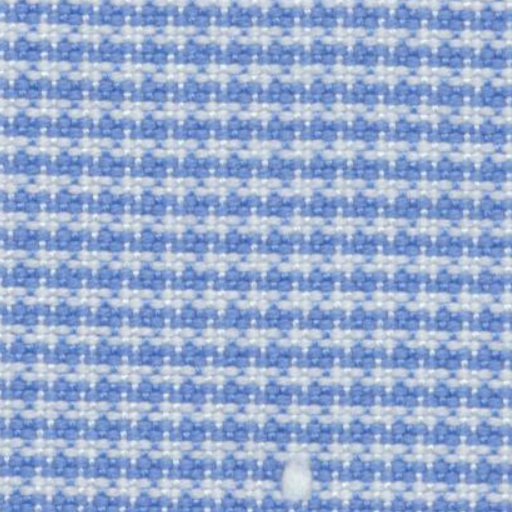MianQiu: (260, 434, 324, 502)
